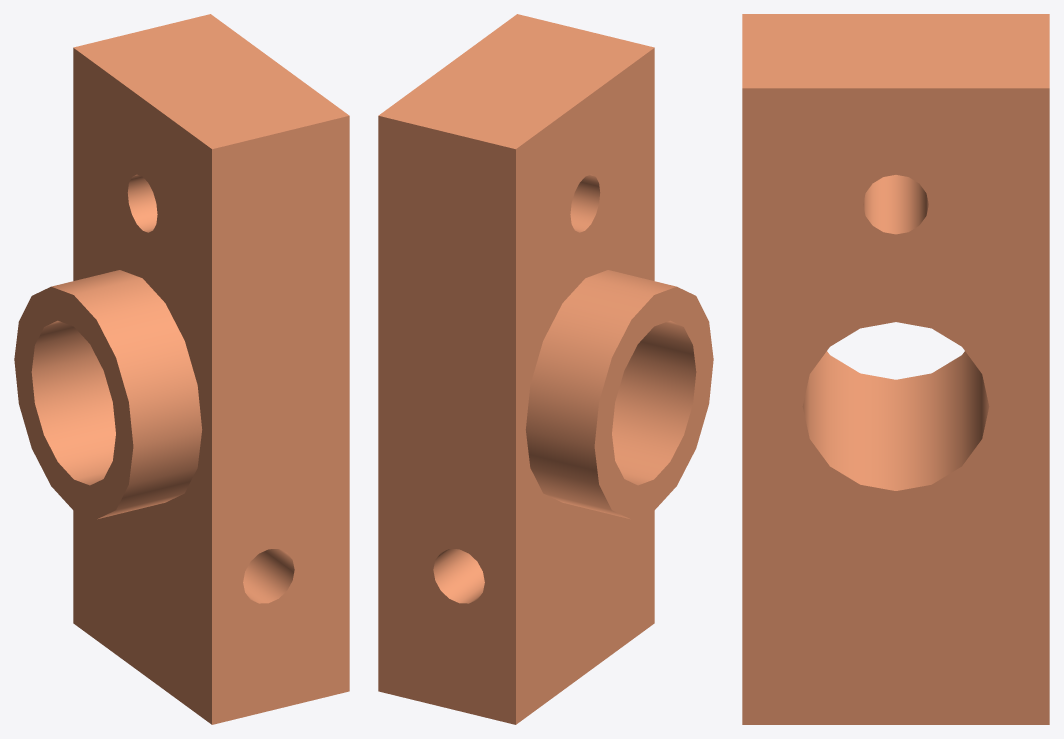
3 renders of one model, left to right at view 1: azimuth 30°, elevation 25°; view 2: azimuth 150°, elevation 25°; view 3: azimuth 270°, elevation 25°, orthographic. The views are drawn at different scales.
Parts seen in each view (by area): view 1: mesh14155, mesh14149, mesh14152, mesh14148, mesh14147, mesh14146, mesh14156, mesh14153; view 2: mesh14154, mesh14149, mesh14152, mesh14148, mesh14147, mesh14146, mesh14156, mesh14153; view 3: mesh14150, mesh14152, mesh14146, mesh14153.
Boxes of the visible parts, x1,y1,x2,y2 form: mesh14155: [212, 116, 349, 724]; mesh14149: [73, 48, 211, 724]; mesh14152: [73, 14, 349, 149]; mesh14148: [51, 270, 202, 519]; mesh14147: [14, 286, 133, 519]; mesh14146: [31, 320, 115, 485]; mesh14156: [243, 549, 294, 603]; mesh14153: [127, 174, 157, 232]; mesh14154: [378, 116, 515, 724]; mesh14149: [516, 48, 654, 724]; mesh14152: [378, 14, 654, 149]; mesh14148: [525, 270, 676, 519]; mesh14147: [594, 286, 713, 519]; mesh14146: [612, 320, 696, 485]; mesh14156: [433, 549, 484, 603]; mesh14153: [570, 174, 600, 232]; mesh14150: [742, 88, 1049, 724]; mesh14152: [742, 14, 1049, 88]; mesh14146: [802, 351, 989, 490]; mesh14153: [863, 175, 928, 234].
Size of the model in its own units: 0.012 by 0.032 by 0.014.
